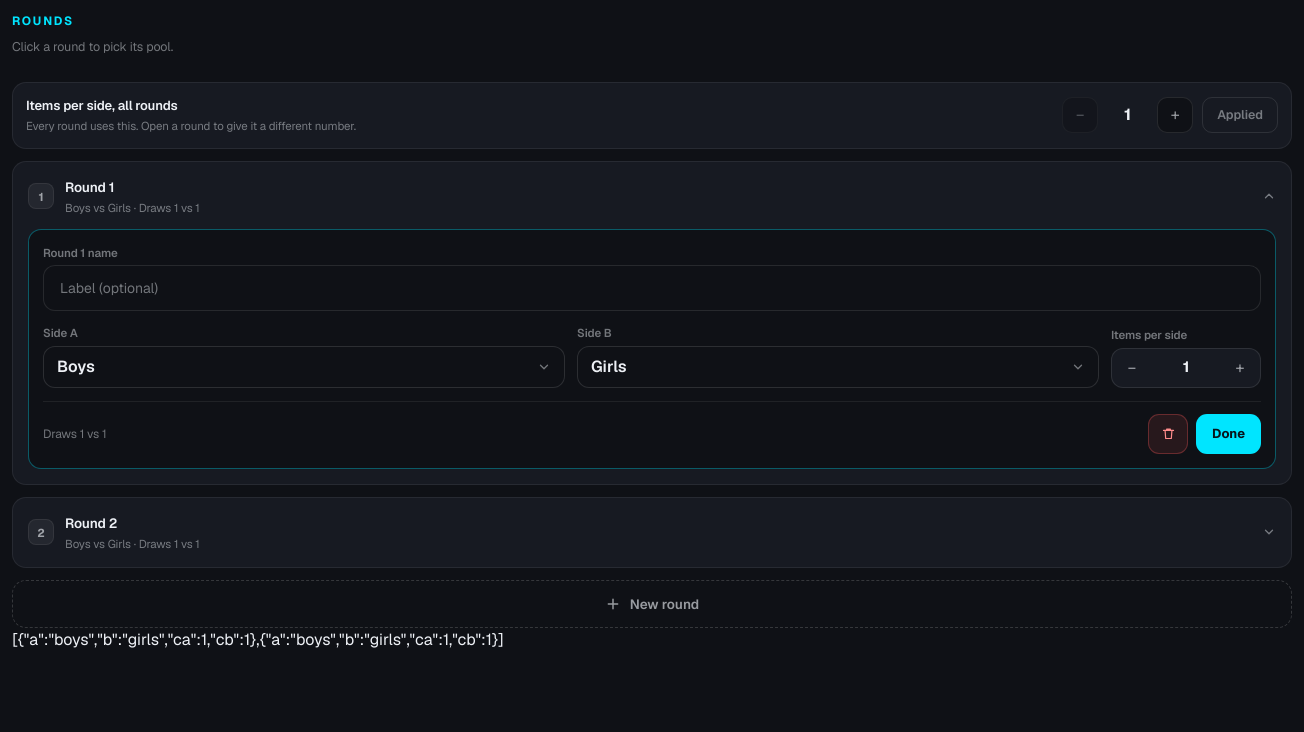
Test: VersusEditor progressive disclosure (T6) › expands a collapsed round and collapses the previously-open one on click
What coordinates should you click on to do the following:
click the button "2 Round 2 Boys vs Girls · Draws 1 vs 1"
I would click on:
 (91, 522)
Its box is x1=28 y1=512 x2=1276 y2=552.
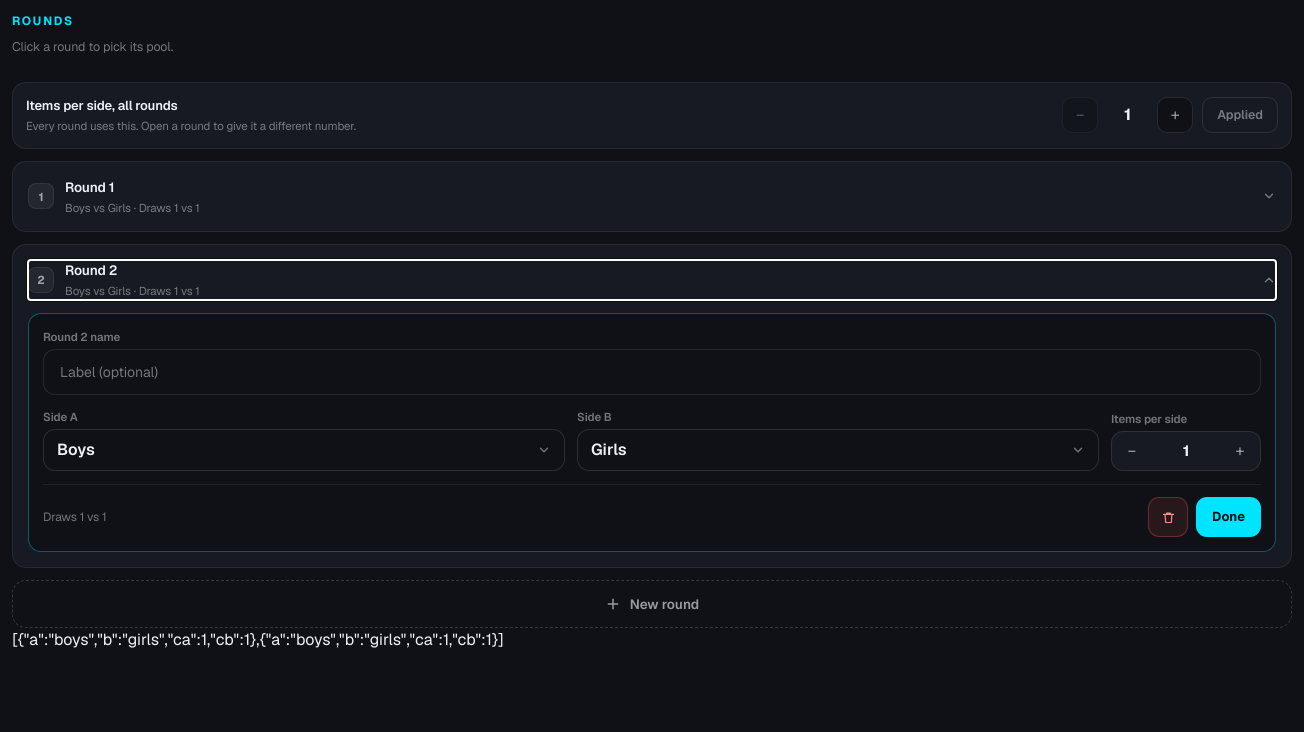
Expected: the dropdown named "Side A for round 2" is shown, x1=43 y1=429 x2=565 y2=471
